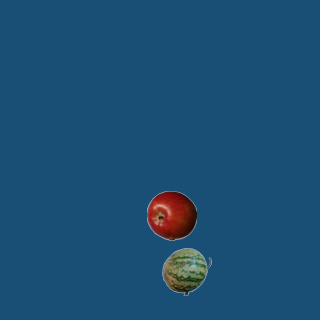Apple Braeburn: (146, 190, 196, 240)
Watermelon: (161, 246, 211, 296)
